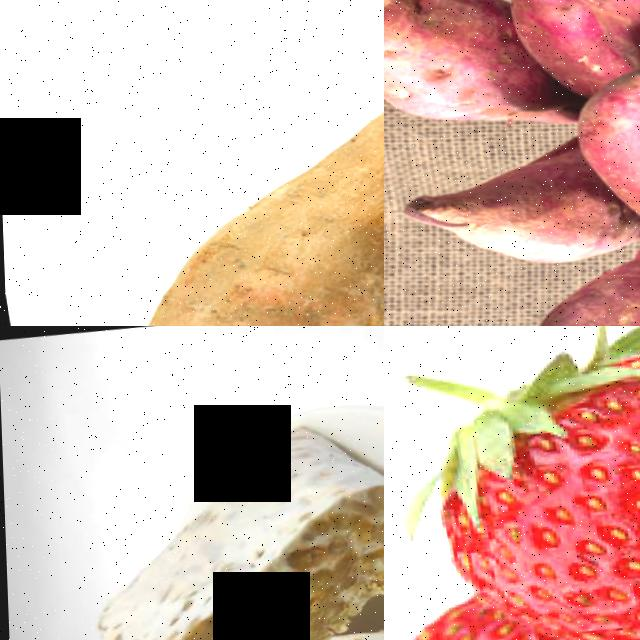strawberry: (416, 326, 640, 640)
sweet potato: (64, 17, 384, 326), (384, 0, 565, 154), (394, 144, 598, 278), (565, 48, 640, 269), (481, 244, 640, 326)
tempeh: (166, 416, 384, 638), (77, 549, 315, 640)
